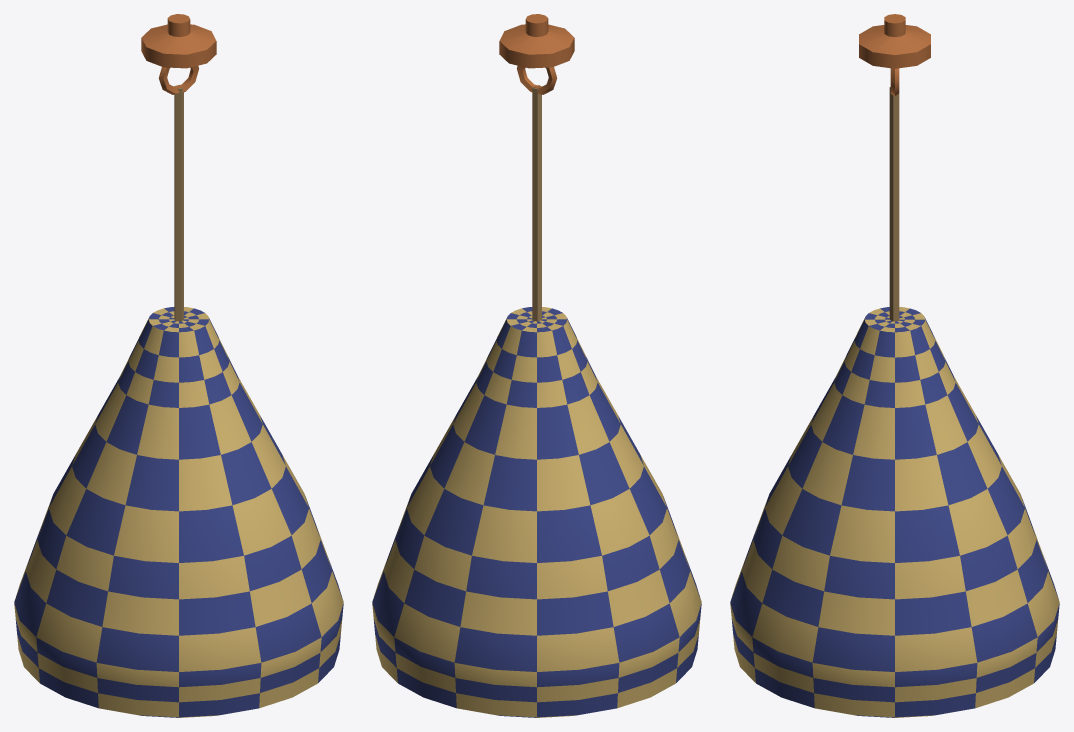
Rendered from deco_pod_light_eave.fbx.
3 renders of one model, left to right at view 1: azimuth 30°, elevation 25°; view 2: azimuth 150°, elevation 25°; view 3: azimuth 270°, elevation 25°, orthographic.
Visible parts, largest first — view 1: PodLight_Eave_Pod, PodLight_Eave_Hook, PodLight_Eave_Cord; view 2: PodLight_Eave_Pod, PodLight_Eave_Hook, PodLight_Eave_Cord; view 3: PodLight_Eave_Pod, PodLight_Eave_Hook, PodLight_Eave_Cord.
Boxes of the visible parts, box(x1,y1,x2,y2) form: PodLight_Eave_Pod: box(14, 307, 343, 717); PodLight_Eave_Hook: box(141, 14, 216, 94); PodLight_Eave_Cord: box(174, 85, 183, 321); PodLight_Eave_Pod: box(372, 307, 701, 717); PodLight_Eave_Hook: box(499, 14, 574, 94); PodLight_Eave_Cord: box(532, 85, 541, 321); PodLight_Eave_Pod: box(730, 307, 1059, 717); PodLight_Eave_Hook: box(859, 14, 930, 96); PodLight_Eave_Cord: box(889, 87, 899, 321).
Bounding box in the file's own units: 43.7 × 93.45 × 43.7.
